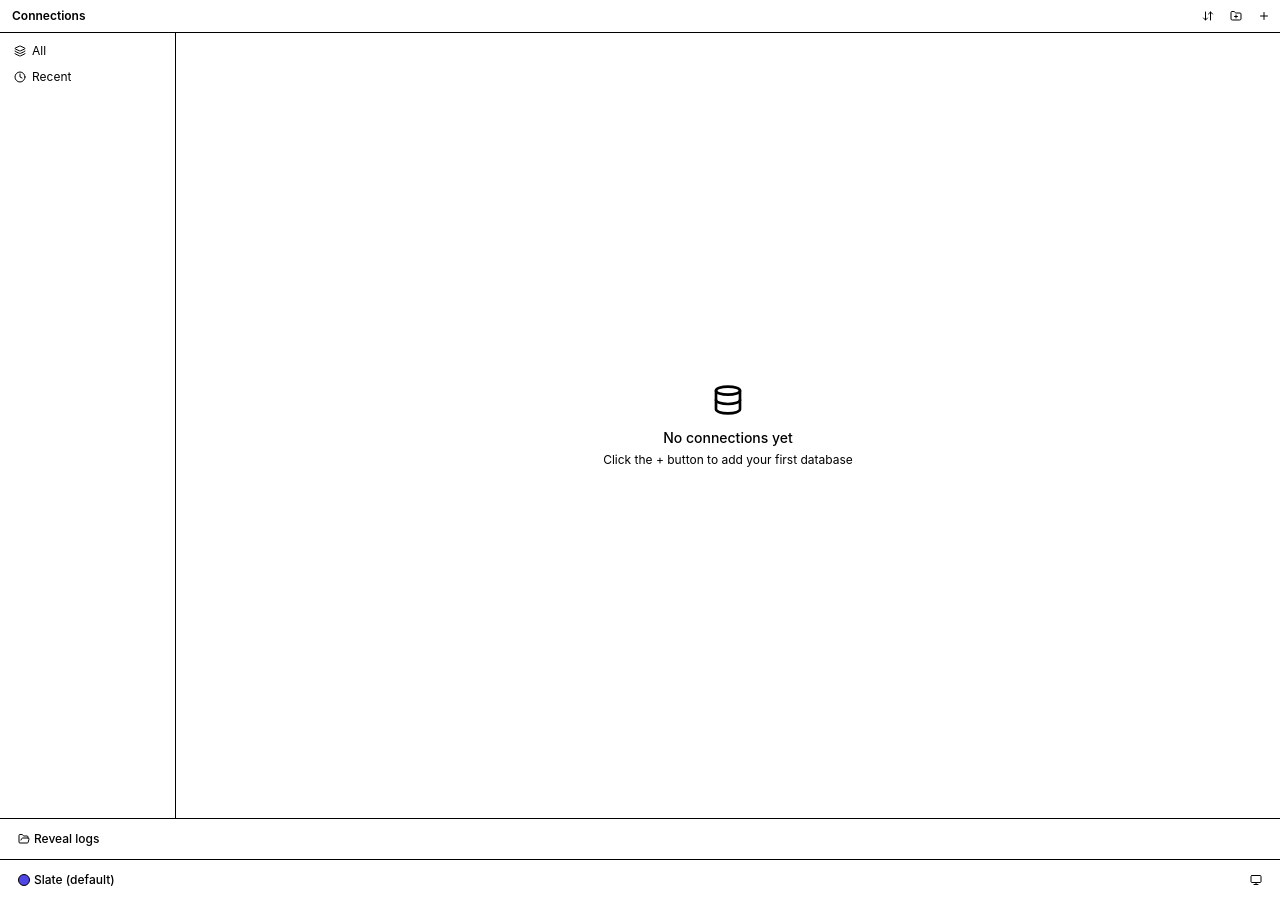
Test: HomePage › caps the theme popover at the available height and scrolls (#1310)
Click the button with aria-label "theme picker": point(74, 880) [12,868,1268,892]
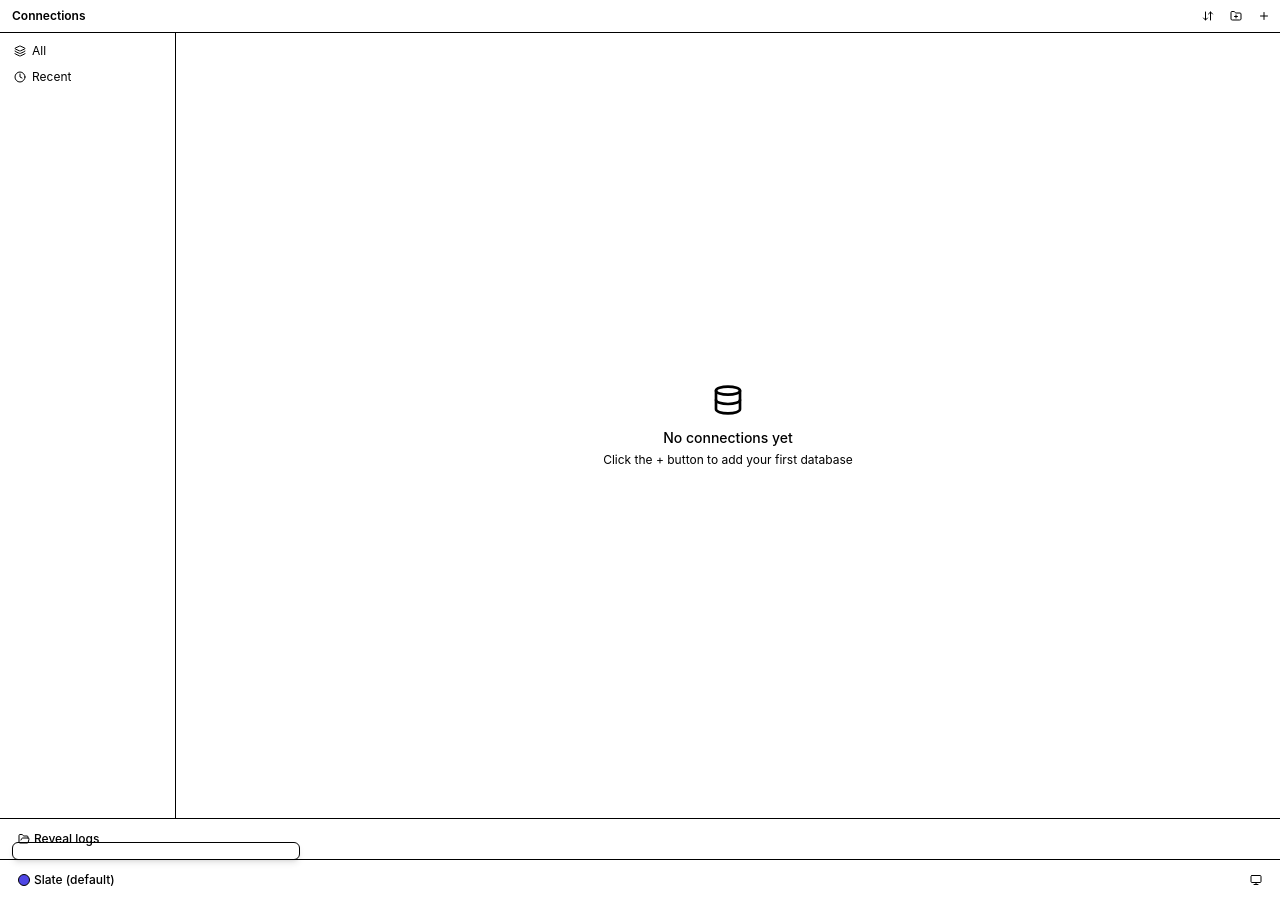
expect the dialog is shown: met, box [12,842,300,860]
